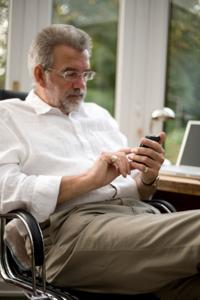person: (1, 23, 200, 297)
